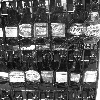beer: (50, 47, 69, 86)
